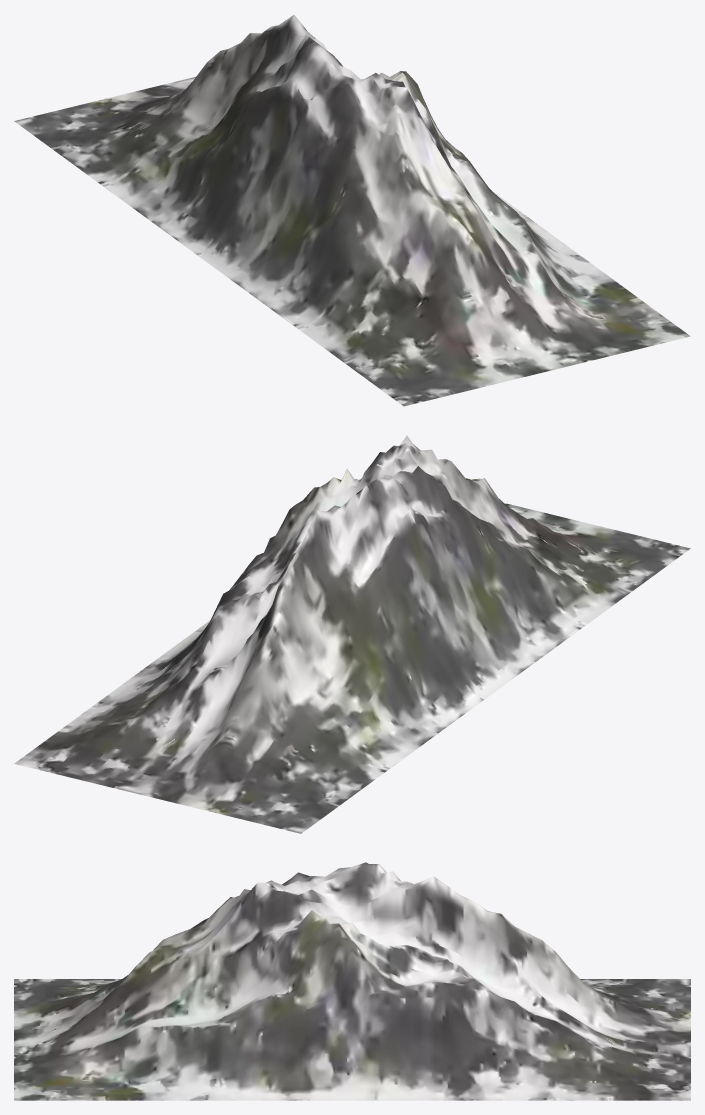
Rendered from mountain.glb.
The picture shows the model from 3 angles, top to bottom: view 1: azimuth 30°, elevation 25°; view 2: azimuth 150°, elevation 25°; view 3: azimuth 270°, elevation 25°; orthographic projection. The views are drawn at different scales.
Visible parts, largest first — view 1: Object_2; view 2: Object_2; view 3: Object_2.
Boxes of the visible parts, left/top/right/bottom form: Object_2: left=14, top=15, right=690, bottom=406; Object_2: left=14, top=435, right=690, bottom=833; Object_2: left=14, top=862, right=690, bottom=1100.
Bounding box in the file's own units: 600 × 376 × 1411.
1 material, 1 textured.
